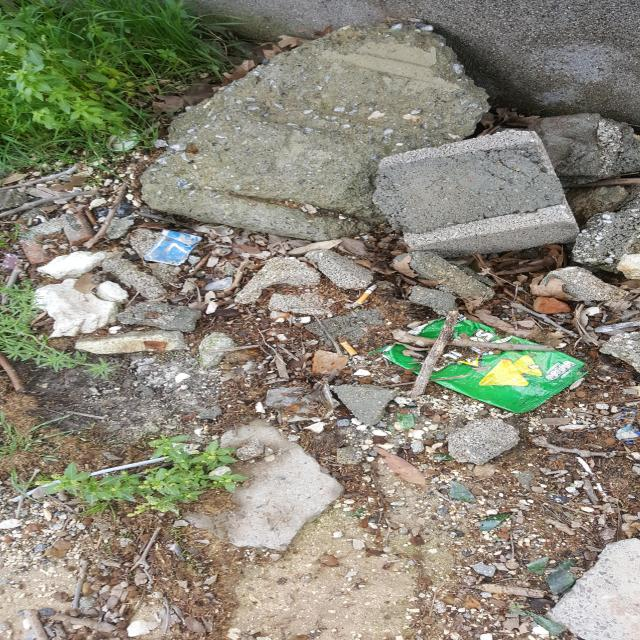litter: (143, 229, 201, 265)
